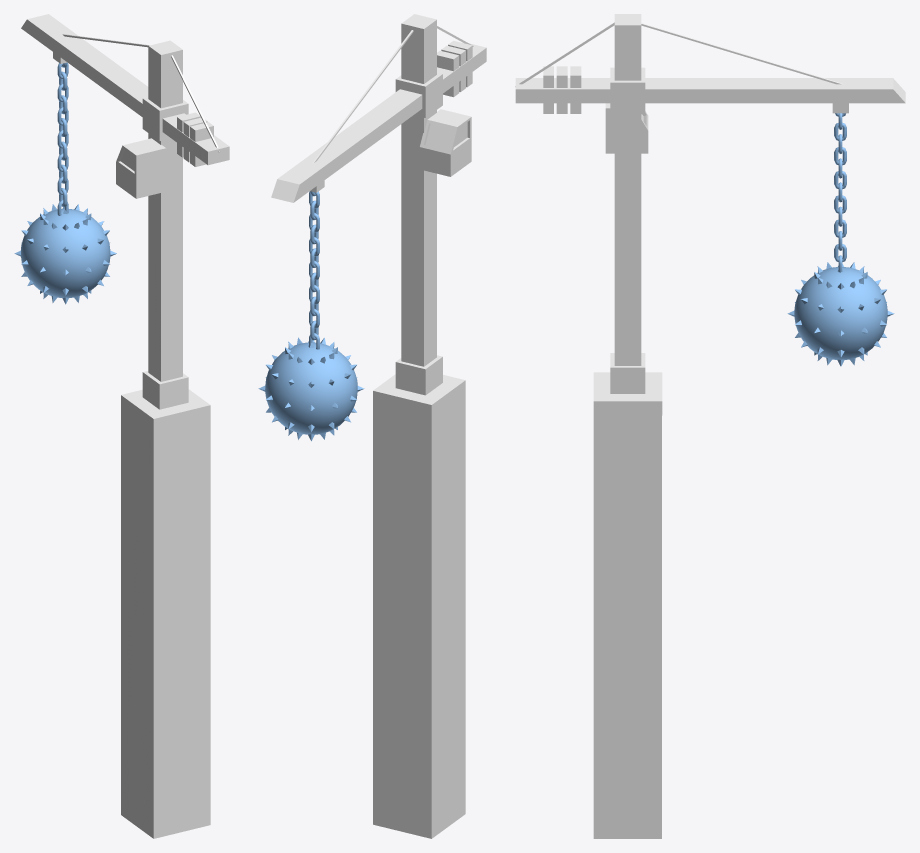
Rendered from Trap03.fbx.
3 views of the same model, side by side, from view 1: azimuth 30°, elevation 25°; view 2: azimuth 150°, elevation 25°; view 3: azimuth 270°, elevation 25° (orthographic). The views are drawn at different scales.
Parts seen in each view (by area): view 1: Cube, crane, Ball, Chain, pCone20; view 2: Cube, crane, Ball, Chain, pCone20; view 3: Cube, crane, Ball, Chain, pCone20.
Boxes of the visible parts, x1,y1,x2,y2 form: Cube: [121, 409, 210, 838]; crane: [21, 14, 229, 432]; Ball: [21, 208, 110, 297]; Chain: [57, 62, 68, 215]; pCone20: [14, 204, 116, 304]; Cube: [373, 395, 465, 838]; crane: [271, 14, 486, 419]; Ball: [265, 342, 357, 434]; Chain: [309, 191, 319, 349]; pCone20: [258, 337, 364, 441]; Cube: [593, 415, 661, 838]; crane: [515, 14, 905, 415]; Ball: [794, 267, 887, 359]; Chain: [834, 113, 846, 272]; pCone20: [787, 262, 894, 366].
Bounding box in the file's own units: 343 × 2835 × 1246.
